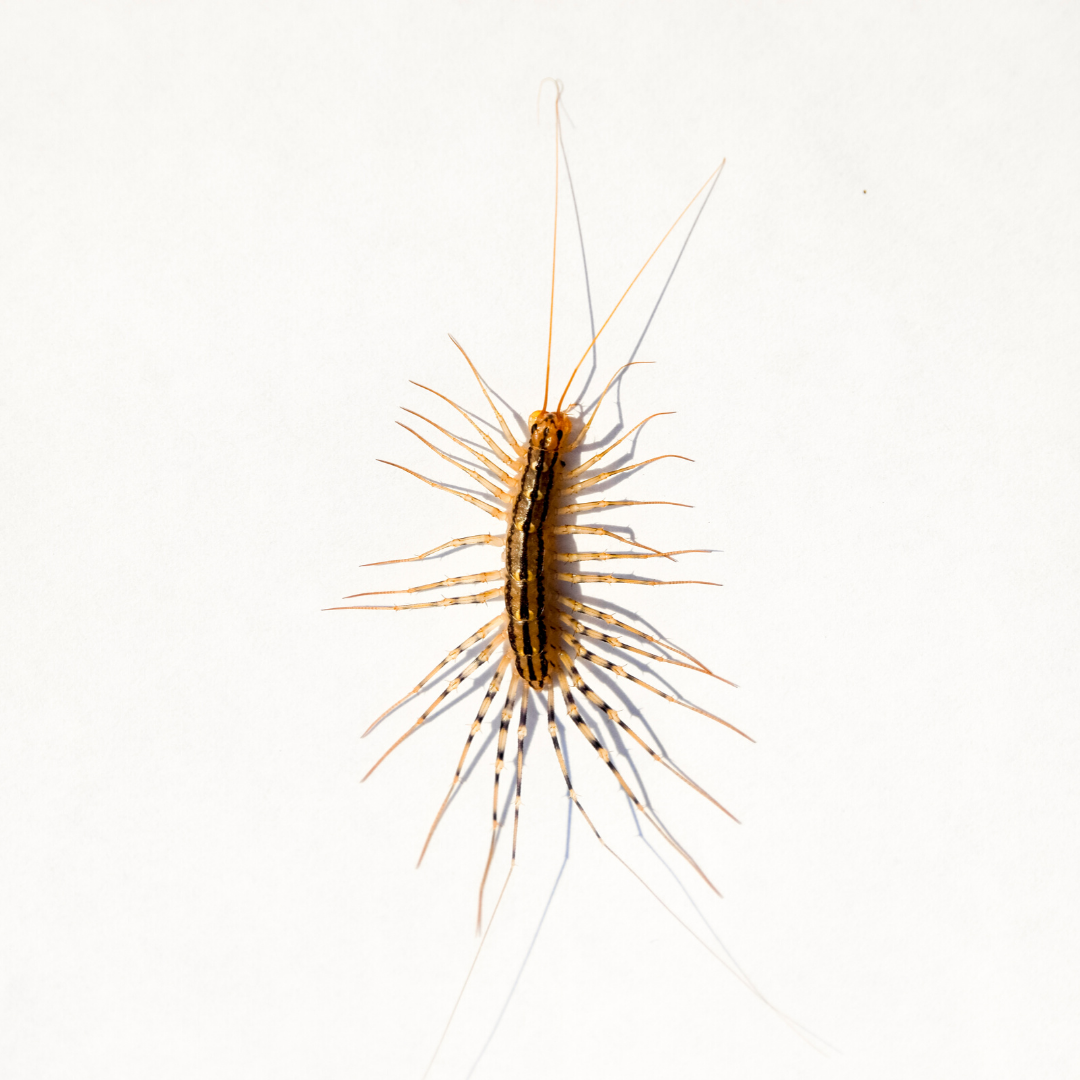centipede: (302, 325, 803, 962)
